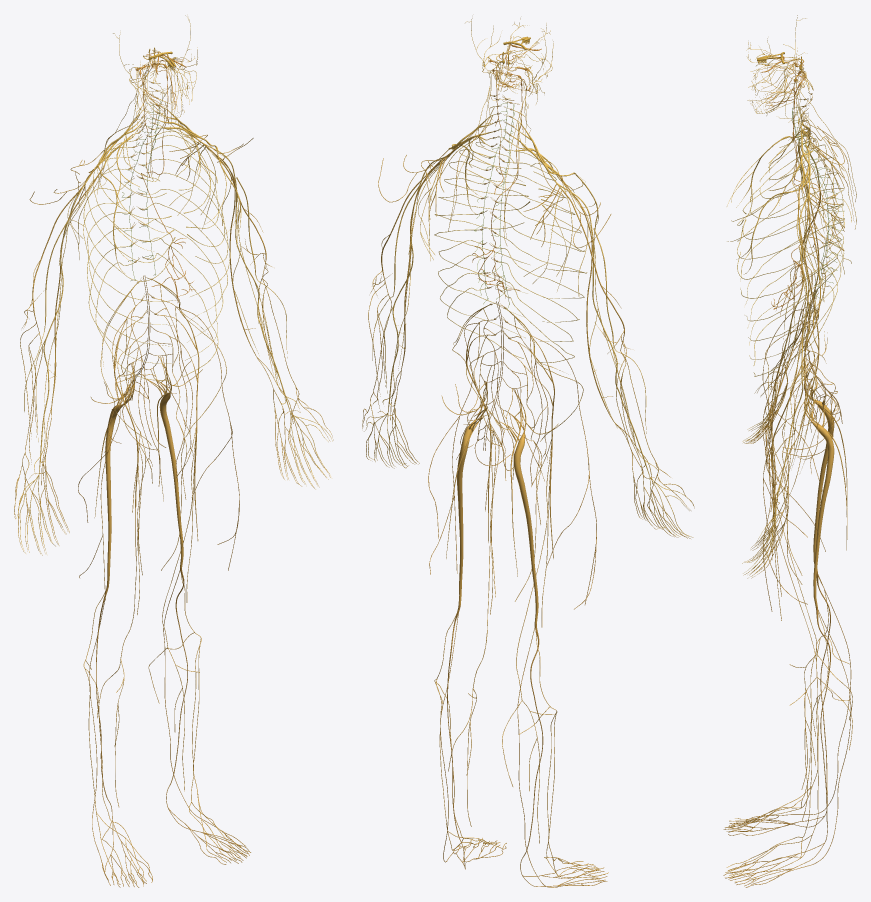
The model's file is nerves.glb.
The picture shows the model from 3 angles, left to right: view 1: azimuth 30°, elevation 25°; view 2: azimuth 150°, elevation 25°; view 3: azimuth 270°, elevation 25°; orthographic projection. The views are drawn at different scales.
Parts seen in each view (by area): view 1: intercostal-nerves, femoral-nerves, radial-nerves, tibial-nerves, median-nerves, sciatic-nerves, ulnar-nerves, common-fibular-nerves, medial-cutaneous-nerves, lateral-femoral-cutaneous-nerves, obturator-nerves, pectoral-nerves (+4 smaller); view 2: intercostal-nerves, femoral-nerves, radial-nerves, tibial-nerves, sciatic-nerves, median-nerves, ulnar-nerves, common-fibular-nerves, lateral-femoral-cutaneous-nerves, obturator-nerves, medial-cutaneous-nerves, posterior-femoral-cutaneous-nerves (+5 smaller); view 3: intercostal-nerves, tibial-nerves, femoral-nerves, radial-nerves, common-fibular-nerves, sciatic-nerves, median-nerves, ulnar-nerves, lateral-femoral-cutaneous-nerves, pectoral-nerves, trigeminal-nerves, medial-cutaneous-nerves (+12 smaller).
Part boxes in pixels (<box>): intercostal-nerves: <box>83,128,230,380</box>; femoral-nerves: <box>97,298,199,807</box>; radial-nerves: <box>14,147,333,553</box>; tibial-nerves: <box>89,568,249,887</box>; median-nerves: <box>16,143,332,555</box>; sciatic-nerves: <box>105,356,183,585</box>; ulnar-nerves: <box>29,142,301,545</box>; common-fibular-nerves: <box>83,575,250,884</box>; medial-cutaneous-nerves: <box>44,141,273,421</box>; lateral-femoral-cutaneous-nerves: <box>78,306,239,600</box>; obturator-nerves: <box>121,306,186,575</box>; pectoral-nerves: <box>97,130,241,273</box>; intercostal-nerves: <box>434,142,587,362</box>; femoral-nerves: <box>448,319,554,843</box>; radial-nerves: <box>362,160,694,538</box>; tibial-nerves: <box>440,605,607,887</box>; sciatic-nerves: <box>457,382,538,623</box>; median-nerves: <box>364,156,693,537</box>; ulnar-nerves: <box>378,149,660,529</box>; common-fibular-nerves: <box>434,609,608,878</box>; lateral-femoral-cutaneous-nerves: <box>428,322,596,609</box>; obturator-nerves: <box>473,322,541,601</box>; medial-cutaneous-nerves: <box>393,152,629,428</box>; posterior-femoral-cutaneous-nerves: <box>446,382,521,576</box>; intercostal-nerves: <box>737,135,844,376</box>; tibial-nerves: <box>723,571,851,887</box>; femoral-nerves: <box>766,307,852,821</box>; radial-nerves: <box>746,144,827,578</box>; common-fibular-nerves: <box>725,575,850,882</box>; sciatic-nerves: <box>804,365,834,607</box>; median-nerves: <box>742,141,809,578</box>; ulnar-nerves: <box>744,139,819,561</box>; lateral-femoral-cutaneous-nerves: <box>762,309,825,611</box>; pectoral-nerves: <box>727,131,802,274</box>; trigeminal-nerves: <box>746,15,813,113</box>; medial-cutaneous-nerves: <box>783,139,824,448</box>.
Size of the model in its own units: 2.67 by 6.63 by 0.9703.
